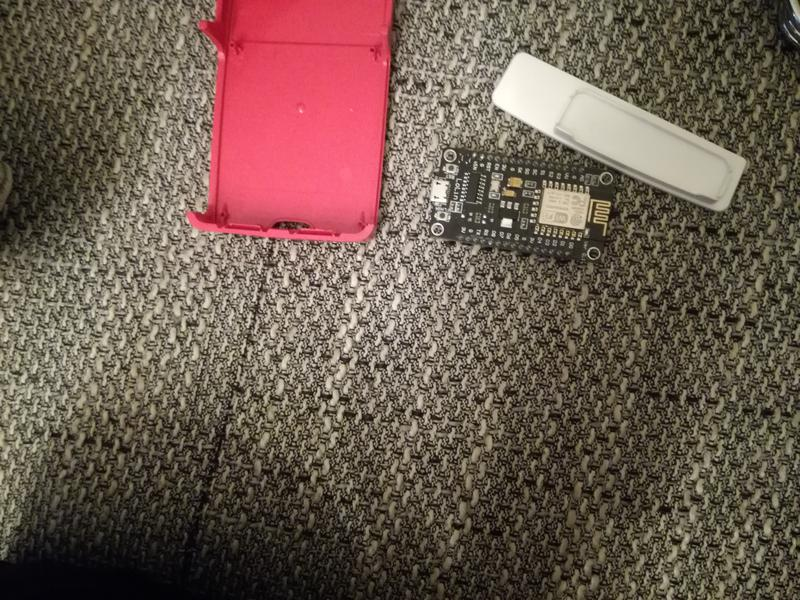ESP8266: (419, 141, 617, 268)
